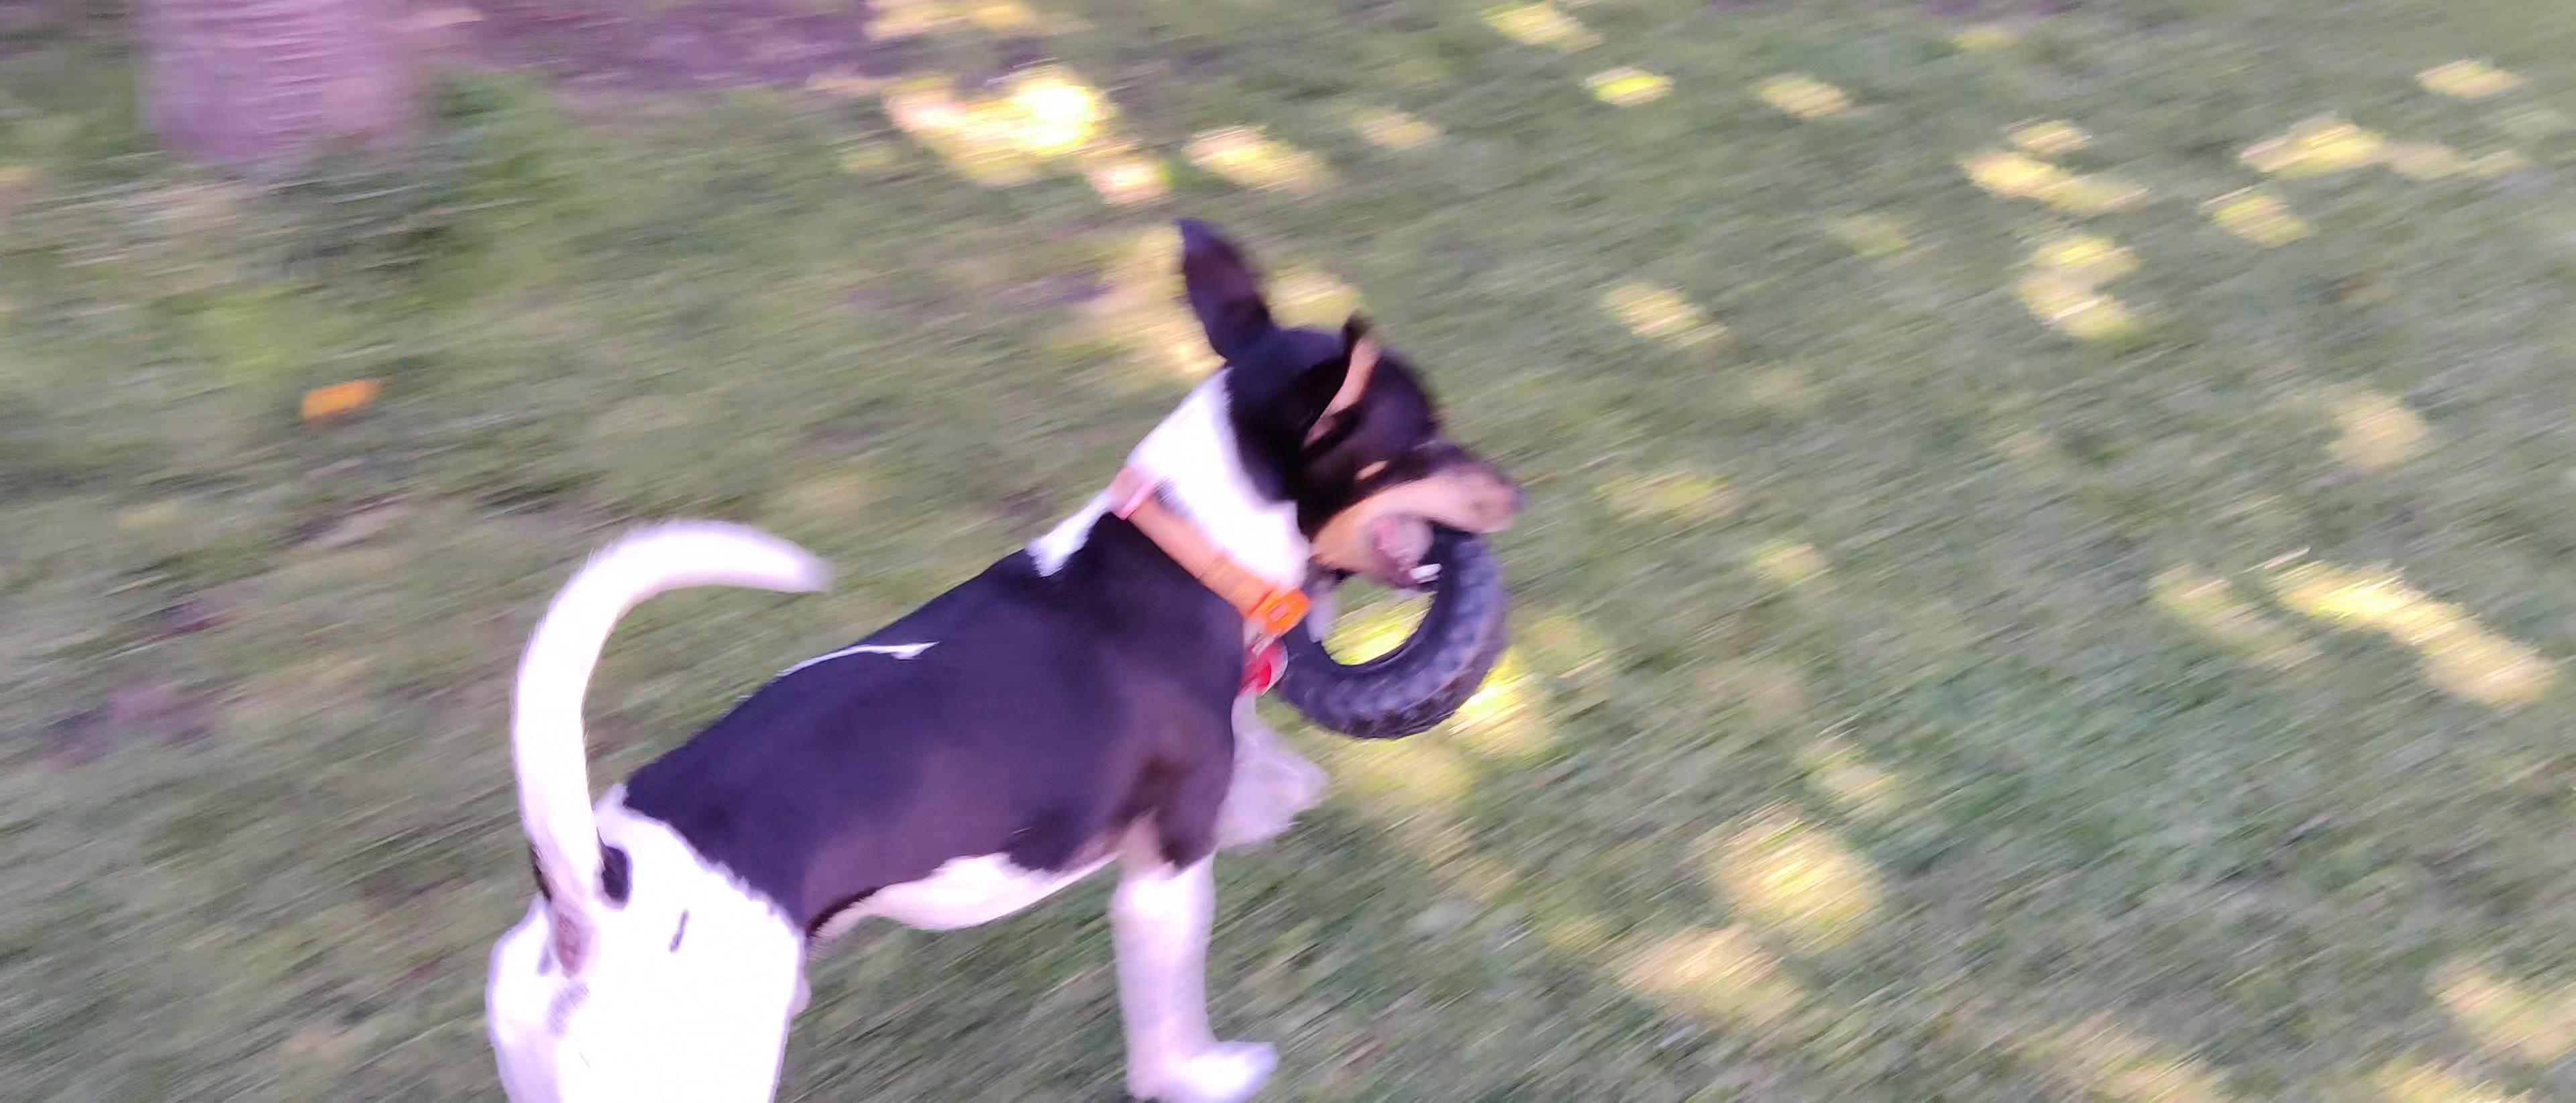Dog: (457, 194, 1536, 1103)
